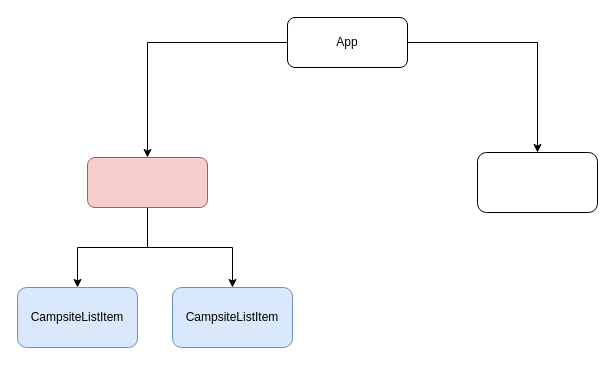
Image size: 615x365. Some labels were removed from this diagram. The shapes that lost their labels are listed below. From the top down, each one's centre as x and y in pixels, then its label:
the point at 147,182: CampsiteList
the point at 537,182: Title
